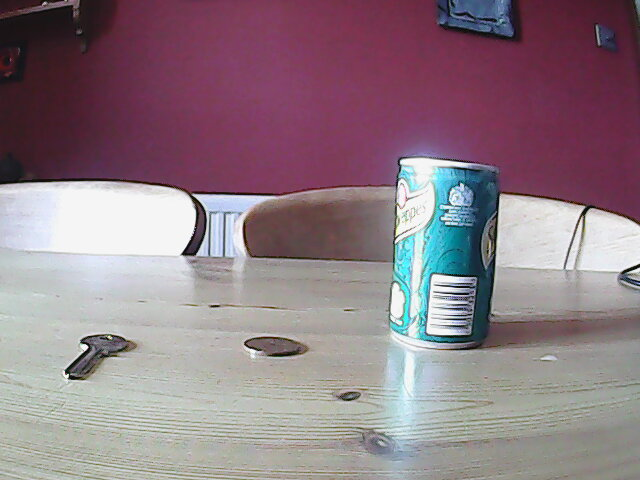Can: (388, 154, 496, 355)
Coin: (240, 330, 303, 360)
Key: (59, 331, 129, 384)
